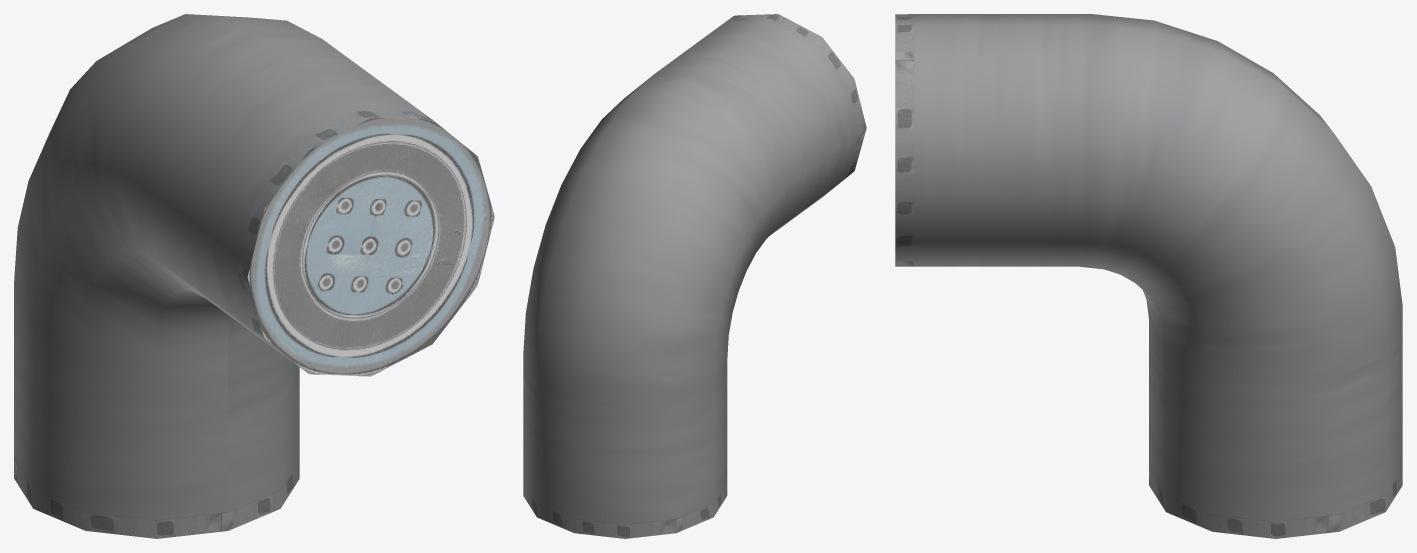
Rendered from SM_RambHose4c.fbx.
3 renders of one model, left to right at view 1: azimuth 30°, elevation 25°; view 2: azimuth 150°, elevation 25°; view 3: azimuth 270°, elevation 25°, orthographic. The views are drawn at different scales.
Visible parts, largest first — view 1: SM_RambHose4c_LOD0; view 2: SM_RambHose4c_LOD0; view 3: SM_RambHose4c_LOD0.
Part boxes in pixels (<box>): SM_RambHose4c_LOD0: <box>14,14,494,538</box>; SM_RambHose4c_LOD0: <box>523,14,866,538</box>; SM_RambHose4c_LOD0: <box>895,14,1402,538</box>.
Bounding box in the file's own units: 20 × 40 × 40.
Materials: 2 (2 with a texture image).
